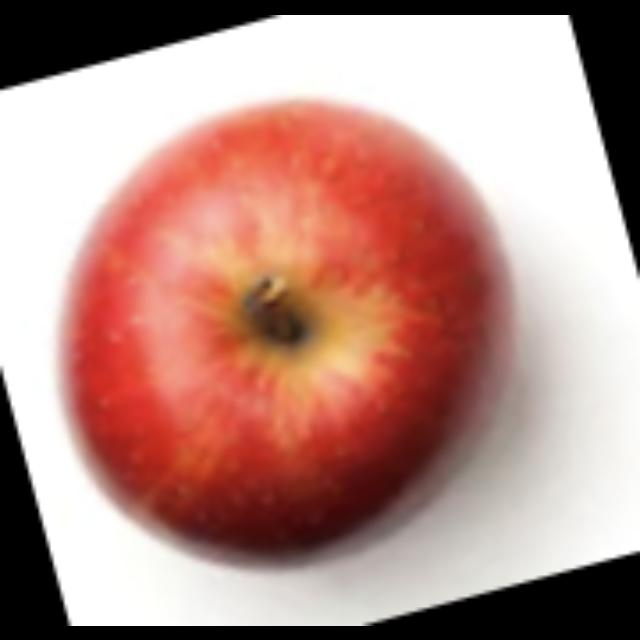Apel Segar: (57, 99, 520, 564)
